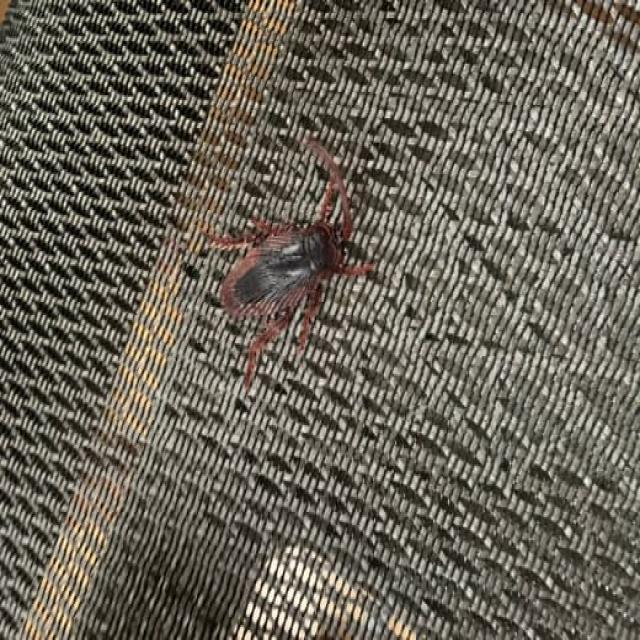Cockroach: (197, 133, 380, 386)
